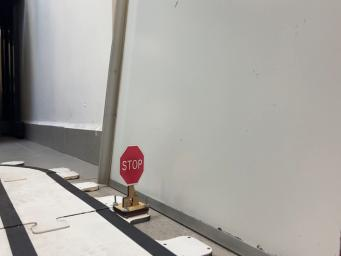stop: (113, 145, 149, 218), (113, 145, 149, 218), (113, 145, 149, 218), (113, 145, 149, 218), (113, 145, 149, 218), (113, 145, 149, 218)
street: (0, 166, 174, 255), (0, 166, 174, 255), (0, 166, 174, 255), (0, 166, 174, 255), (0, 166, 174, 255), (0, 166, 174, 255)
